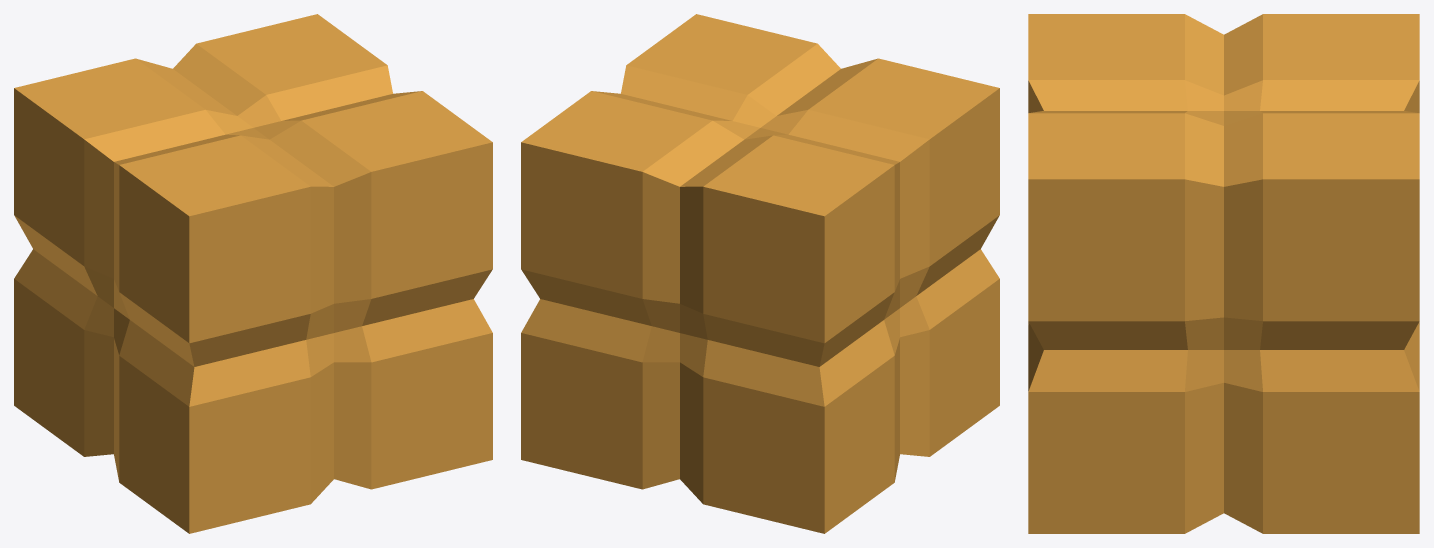
The model's file is scifi-box-divided.fbx.
3 renders of one model, left to right at view 1: azimuth 30°, elevation 25°; view 2: azimuth 150°, elevation 25°; view 3: azimuth 270°, elevation 25°, orthographic. The views are drawn at different scales.
Visible parts, largest first — view 1: scifi-box-divided; view 2: scifi-box-divided; view 3: scifi-box-divided.
Boxes of the visible parts, x1=… form: scifi-box-divided: x1=14, y1=14, x2=492, y2=533; scifi-box-divided: x1=521, y1=14, x2=999, y2=533; scifi-box-divided: x1=1028, y1=14, x2=1419, y2=533.
Size of the model in its own units: 1 by 1 by 1.
